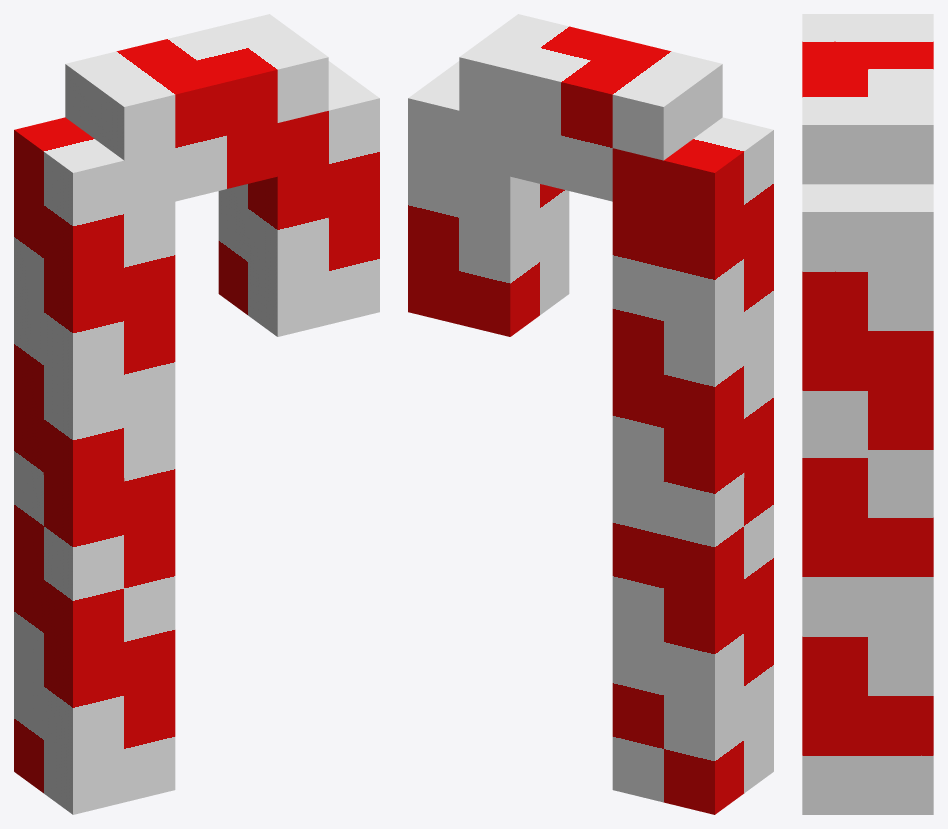
Rendered from Candycane.dae.
3 views of the same model, side by side, from view 1: azimuth 30°, elevation 25°; view 2: azimuth 150°, elevation 25°; view 3: azimuth 270°, elevation 25° (orthographic). The views are drawn at different scales.
Parts seen in each view (by area): view 1: Candycane; view 2: Candycane; view 3: Candycane.
Boxes of the visible parts, left/top/right/bottom form: Candycane: left=14, top=14, right=379, bottom=814; Candycane: left=408, top=14, right=773, bottom=814; Candycane: left=802, top=14, right=933, bottom=814.
Size of the model in its own units: 6 by 13 by 2.
1 material, 1 textured.
